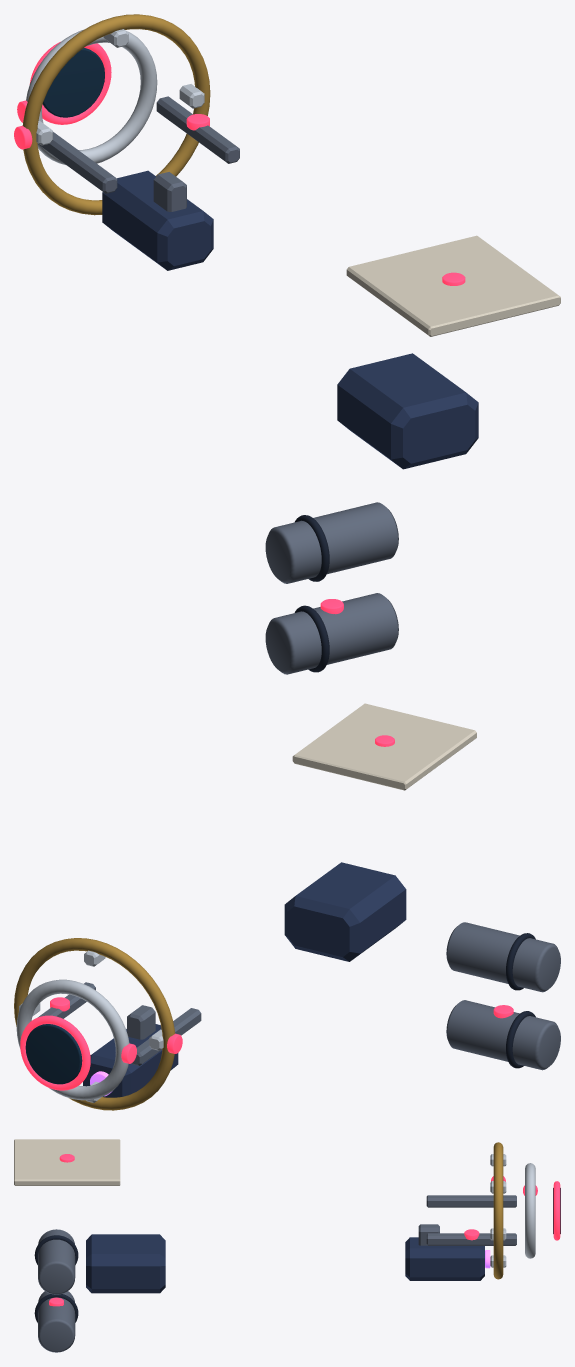
The model's file is tower_filament_peak_s9.glb.
3 views of the same model, one above another, from view 1: azimuth 30°, elevation 25°; view 2: azimuth 150°, elevation 25°; view 3: azimuth 270°, elevation 25° (orthographic). The views are drawn at different scales.
Visible parts, largest first — view 1: filament_dielectric, filament_coupler, filament_cap0.12, filament_cap-0.12, filament_gimbal_ring, filament_shred_emitter, filament_aperture_ring, filament_lens_b, filament_lens_brace_l, filament_lens_brace_r, filament_lens_b_ring, filament_shred_mount; view 2: filament_dielectric, filament_coupler, filament_cap0.12, filament_cap-0.12, filament_gimbal_ring, filament_aperture_ring, filament_lens_b, filament_shred_emitter, filament_lens_b_ring, filament_lens_brace_r, filament_shred_mount, filament_cap_rib0.12 (+1 smaller); view 3: filament_dielectric, filament_coupler, filament_shred_emitter, filament_cap0.12, filament_cap-0.12, filament_gimbal_ring, filament_lens_brace_r, filament_aperture_ring, filament_lens_brace_l, filament_lens_b_ring, filament_cap_rib0.12, filament_shred_mount (+1 smaller).
Boxes of the visible parts, bbox=[...] form: filament_dielectric: bbox=[346, 235, 560, 336]; filament_coupler: bbox=[337, 353, 478, 469]; filament_cap0.12: bbox=[265, 502, 398, 583]; filament_cap-0.12: bbox=[265, 593, 398, 674]; filament_gimbal_ring: bbox=[22, 14, 210, 215]; filament_shred_emitter: bbox=[102, 170, 213, 270]; filament_aperture_ring: bbox=[26, 29, 157, 164]; filament_lens_b: bbox=[43, 48, 104, 117]; filament_lens_brace_l: bbox=[156, 96, 239, 163]; filament_lens_brace_r: bbox=[37, 132, 117, 193]; filament_lens_b_ring: bbox=[29, 41, 111, 124]; filament_shred_mount: bbox=[153, 172, 186, 211]; filament_dielectric: bbox=[292, 703, 476, 790]; filament_coupler: bbox=[284, 862, 406, 961]; filament_cap0.12: bbox=[446, 922, 560, 992]; filament_cap-0.12: bbox=[446, 1000, 560, 1070]; filament_gimbal_ring: bbox=[14, 938, 175, 1110]; filament_aperture_ring: bbox=[16, 979, 129, 1100]; filament_lens_b: bbox=[25, 1024, 82, 1084]; filament_shred_emitter: bbox=[83, 1024, 178, 1097]; filament_lens_b_ring: bbox=[20, 1015, 90, 1090]; filament_lens_brace_r: bbox=[131, 1008, 201, 1065]; filament_shred_mount: bbox=[127, 1005, 155, 1039]; filament_cap_rib0.12: bbox=[506, 933, 535, 990]; filament_dielectric: bbox=[14, 1139, 120, 1185]; filament_coupler: bbox=[86, 1234, 165, 1293]; filament_shred_emitter: bbox=[405, 1237, 484, 1280]; filament_cap0.12: bbox=[38, 1229, 75, 1294]; filament_cap-0.12: bbox=[38, 1291, 75, 1352]; filament_gimbal_ring: bbox=[493, 1142, 503, 1279]; filament_lens_brace_r: bbox=[426, 1195, 516, 1207]; filament_aperture_ring: bbox=[525, 1163, 535, 1258]; filament_lens_brace_l: bbox=[426, 1233, 516, 1245]; filament_lens_b_ring: bbox=[553, 1181, 560, 1240]; filament_cap_rib0.12: bbox=[34, 1235, 78, 1264]; filament_shred_mount: bbox=[418, 1224, 439, 1245].
Bounding box in the file's own units: 0.768 × 0.96 × 2.06.
